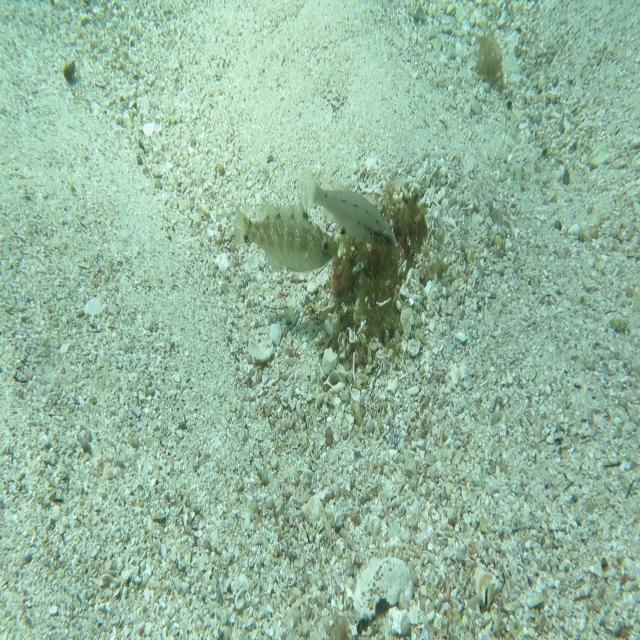GB: (229, 198, 340, 276)
female: (297, 155, 397, 257)
nest: (317, 155, 438, 378)
